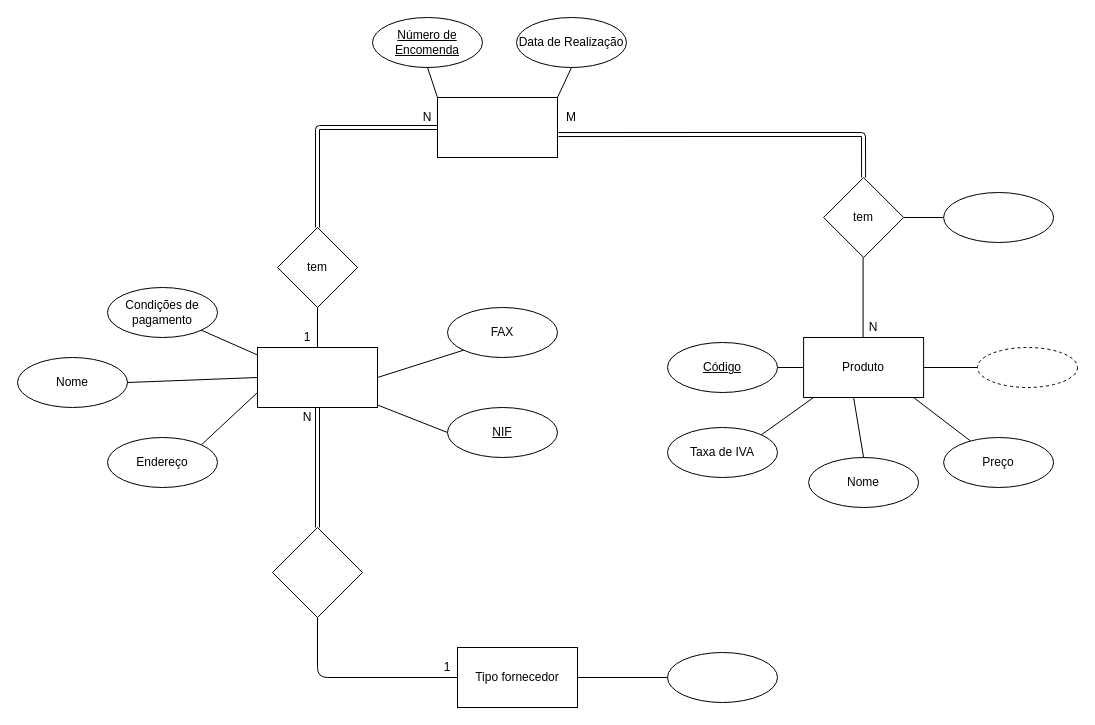
The diagram is 1095 pixels wide and 725 high, and some of its shapes have lost their labels. Each missing label, with the box of its shape:
caracterizado por: (272, 526, 362, 618)
designação: (666, 652, 778, 702)
Encomenda: (436, 96, 558, 158)
Fornecedor: (256, 346, 378, 408)
Stock: (976, 346, 1078, 388)
Unidades: (943, 192, 1054, 242)
